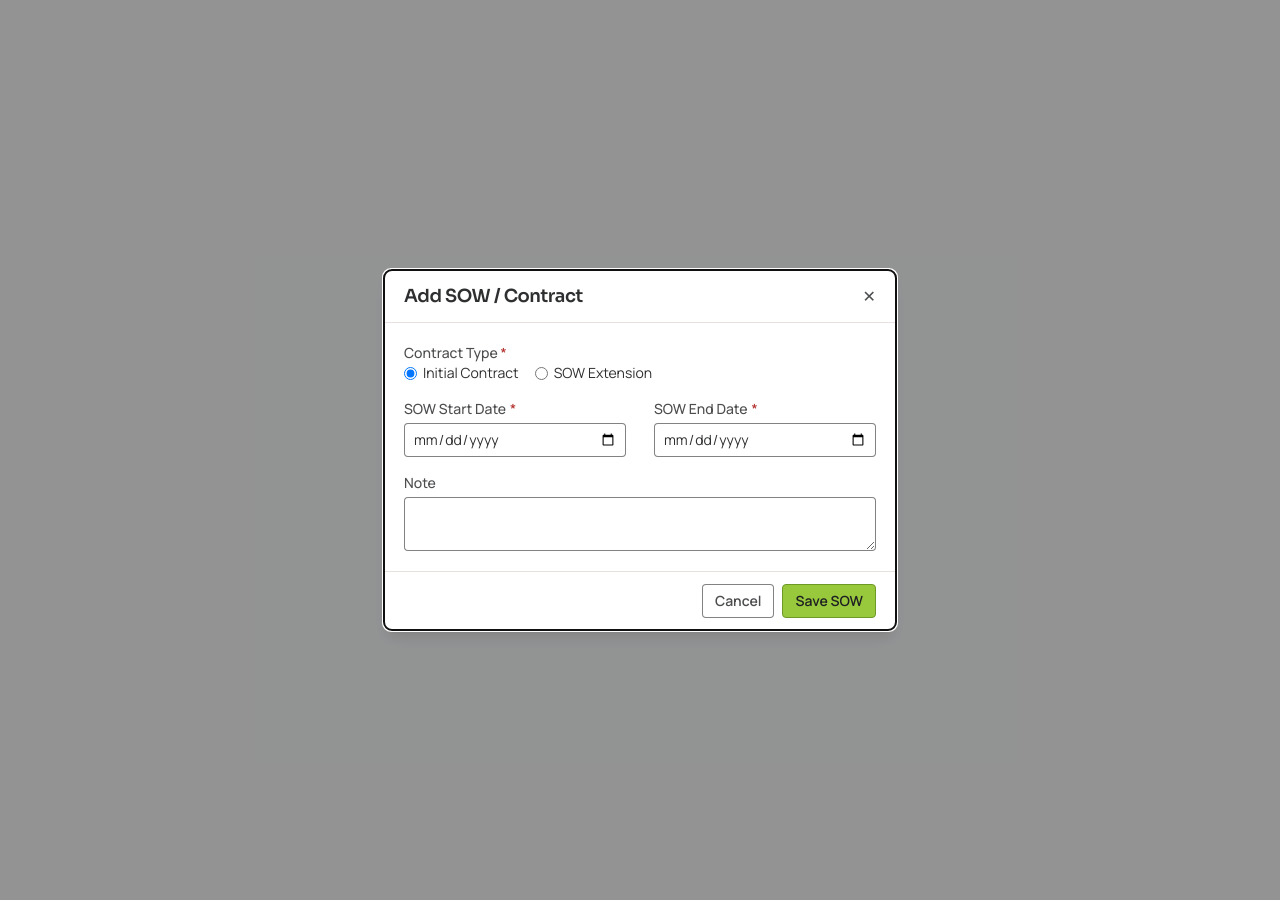
SowForm › shows the overlap rejection identifying the conflicting period
Click the radio button labelled "Initial Contract" at (410, 373), box [404, 366, 417, 380]
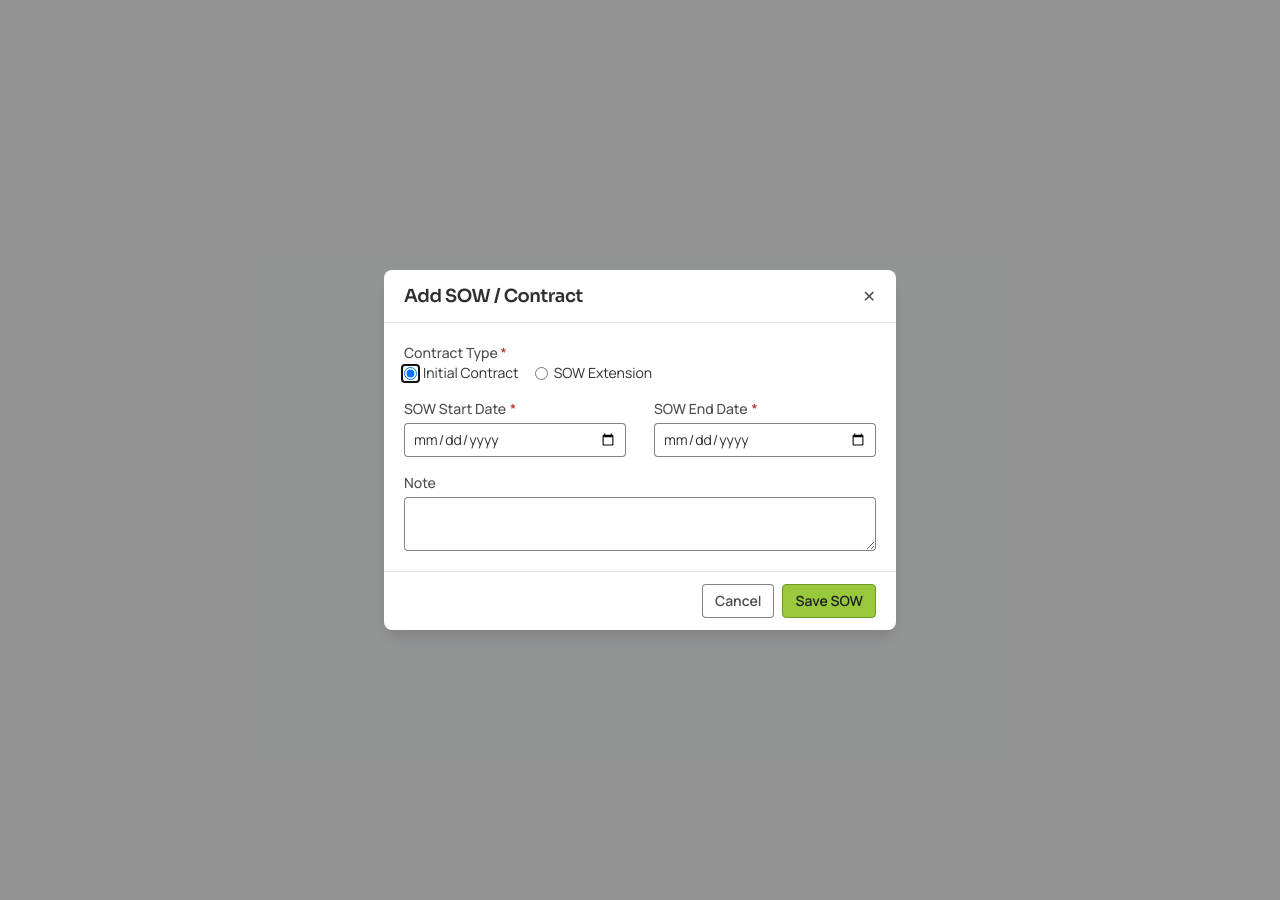
Type "2024-10-01" into the date field labelled "SOW Start Date*" at (515, 440), box [404, 423, 626, 457]
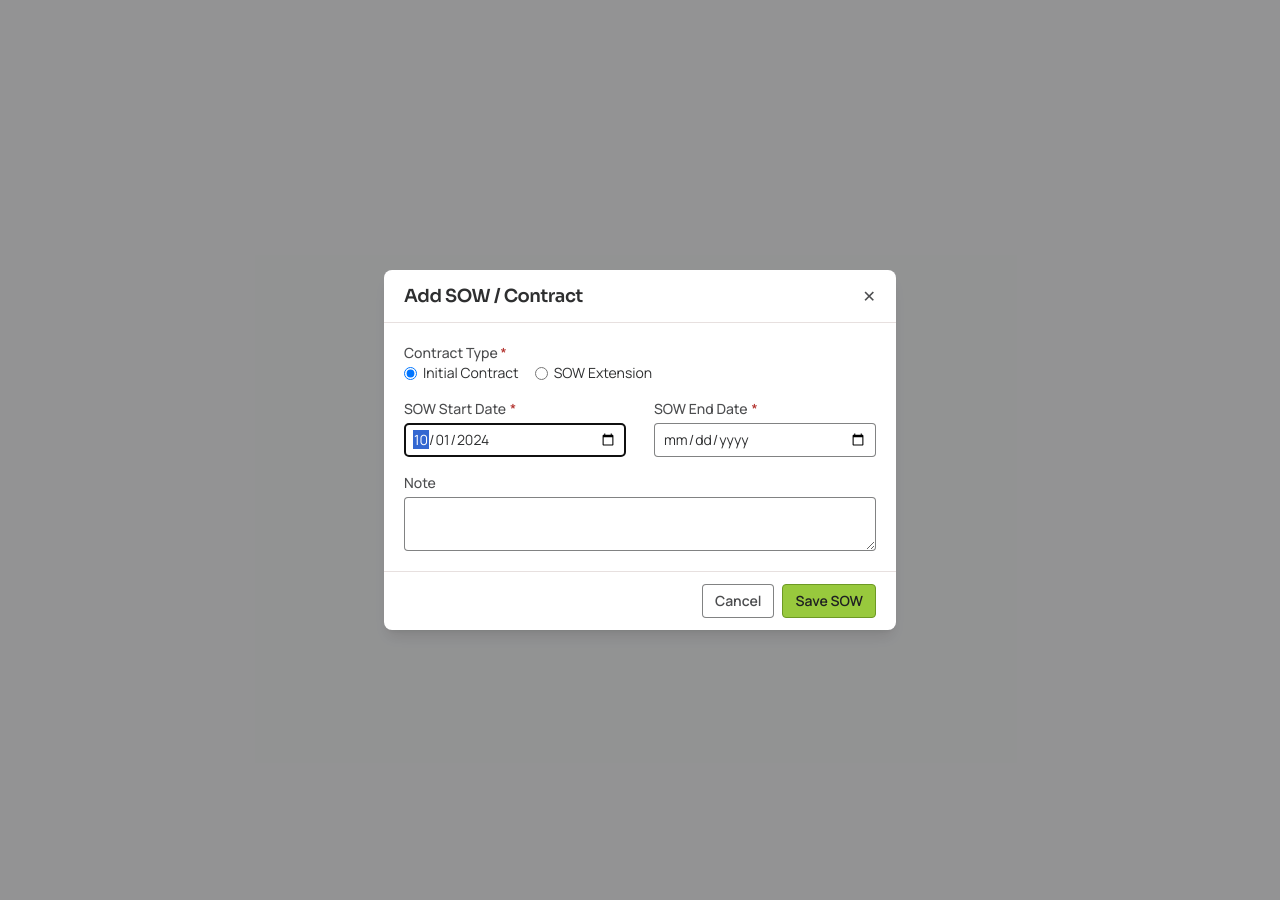
Type "2025-06-30" into the date field labelled "SOW End Date*" at (765, 440), box [654, 423, 876, 457]
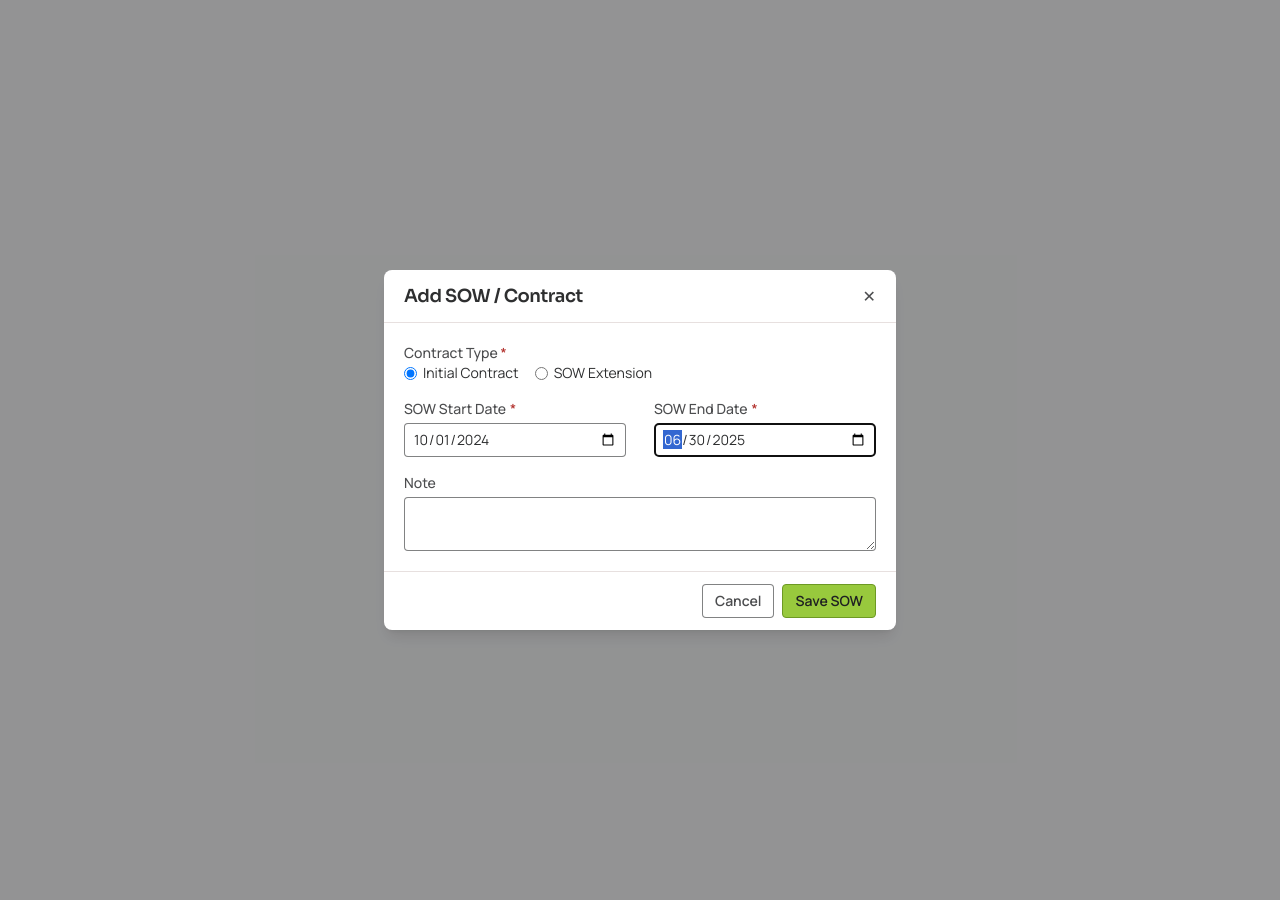
Click the button "Save SOW" at (829, 601), box [782, 584, 876, 618]
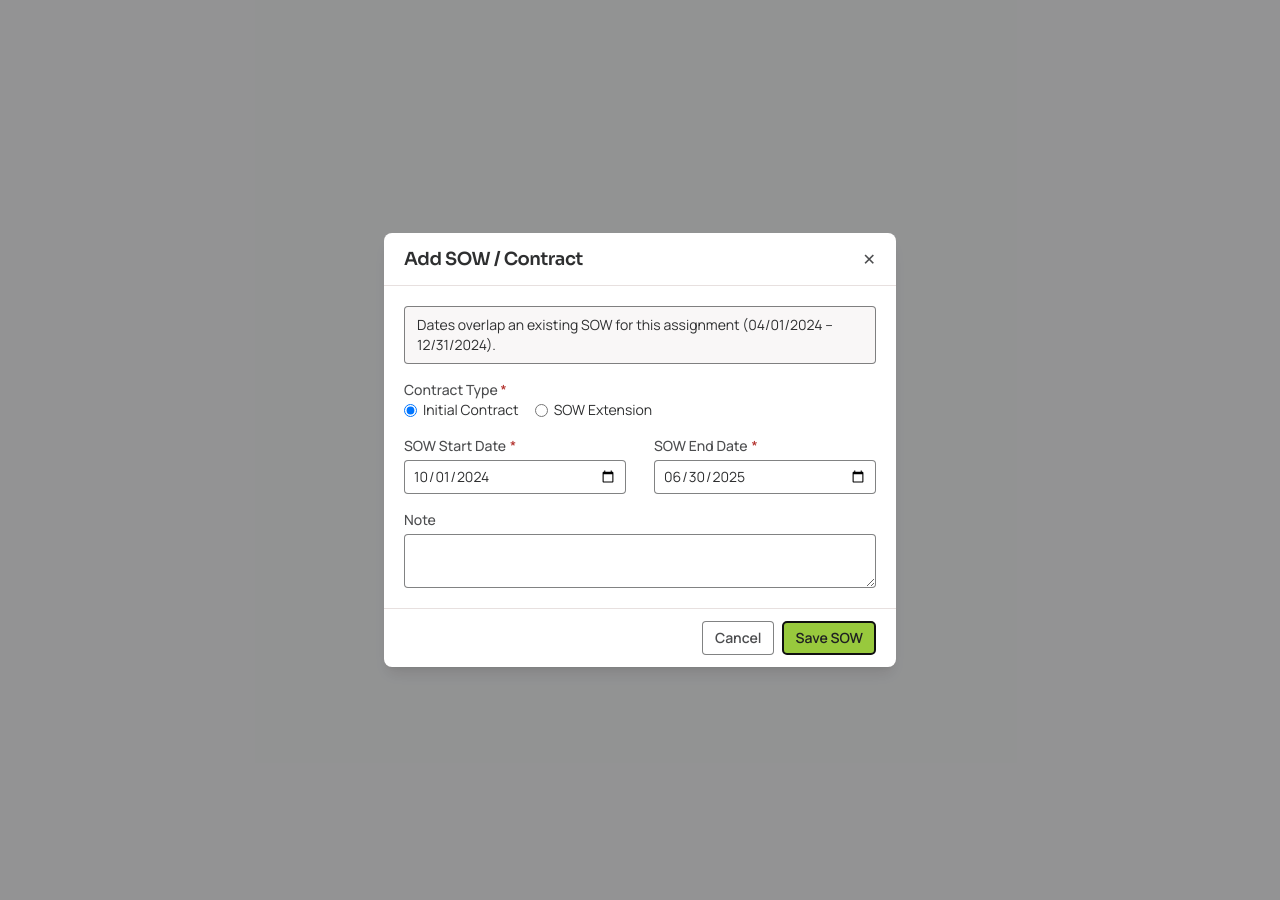
expect the message shows "Dates overlap an existing SOW": met, box [417, 315, 833, 354]
